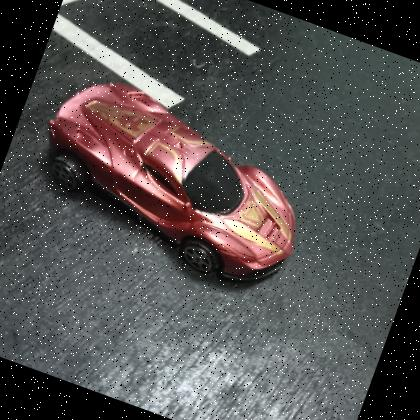Car: (16, 60, 330, 300)
